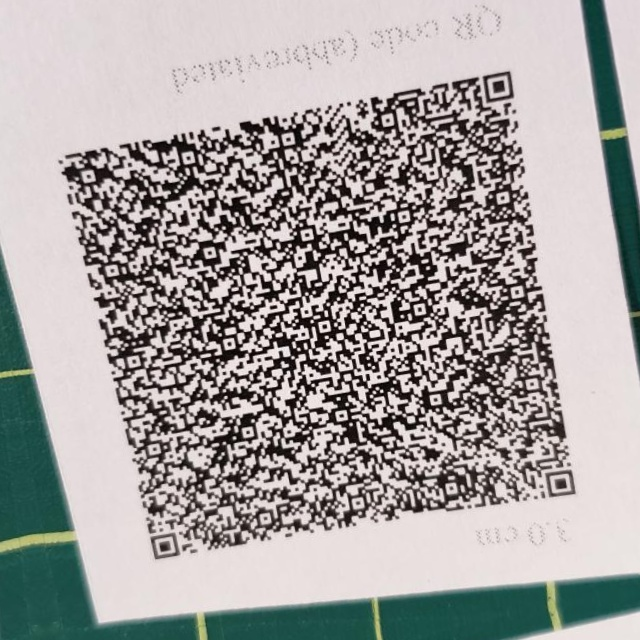qr-code: (30, 53, 617, 606)
